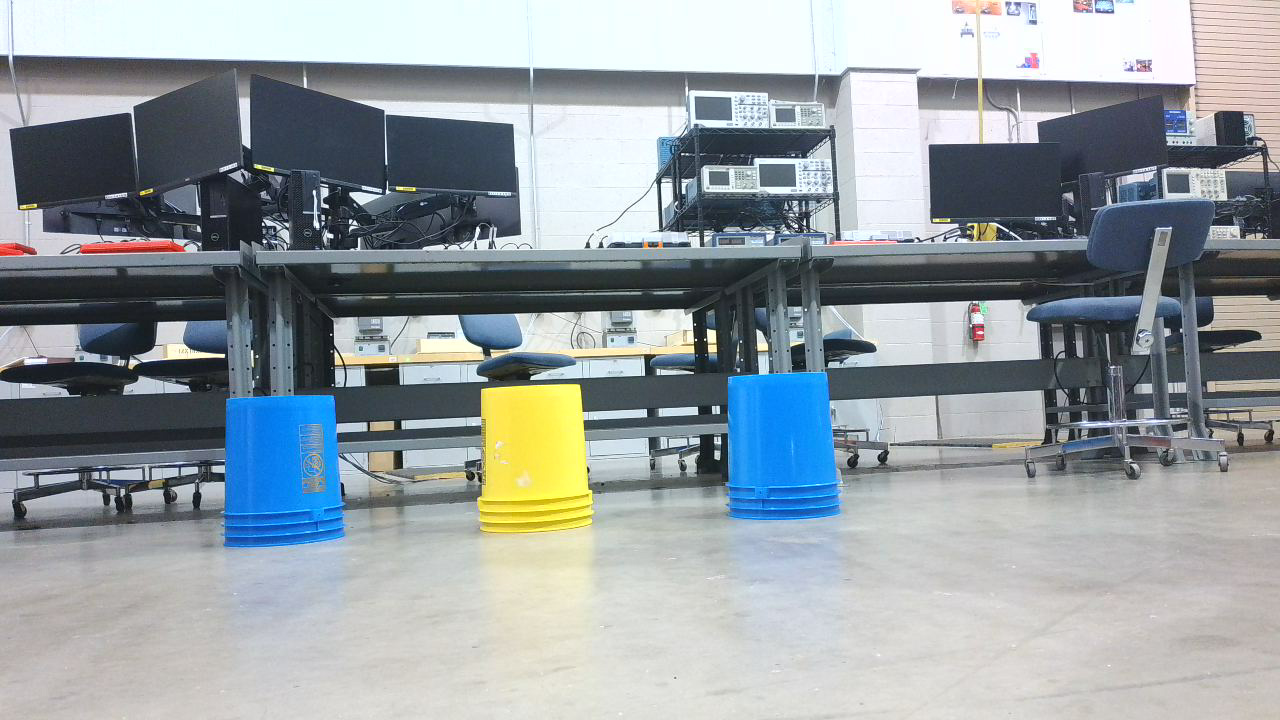blue_bucket: (224, 395, 354, 559), (726, 373, 850, 530)
yellow_bucket: (475, 380, 605, 548)
